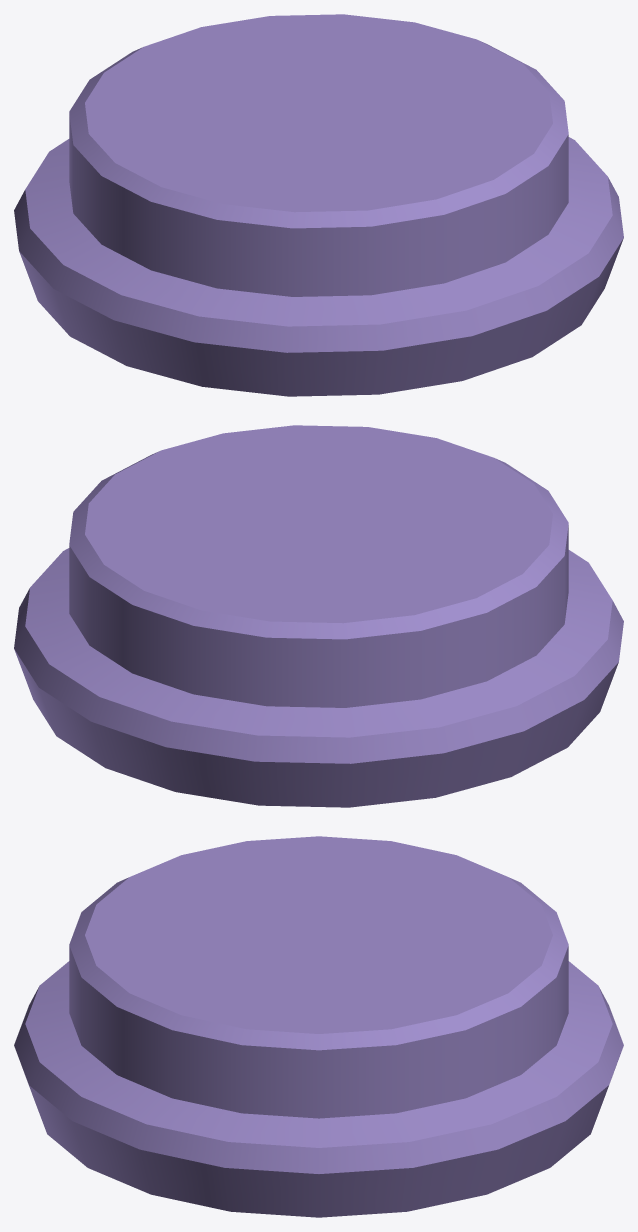
File: Crystal_Ball_Base.fbx
3 views of the same model, one above another, from view 1: azimuth 30°, elevation 25°; view 2: azimuth 150°, elevation 25°; view 3: azimuth 270°, elevation 25° (orthographic).
Parts seen in each view (by area): view 1: Crystal_Ball_Base; view 2: Crystal_Ball_Base; view 3: Crystal_Ball_Base.
Boxes of the visible parts, box(x1,y1,x2,y2) form: Crystal_Ball_Base: box(14, 14, 623, 396); Crystal_Ball_Base: box(14, 425, 623, 807); Crystal_Ball_Base: box(14, 836, 623, 1217).
Bounding box in the file's own units: 24.81 × 7.26 × 24.81.
